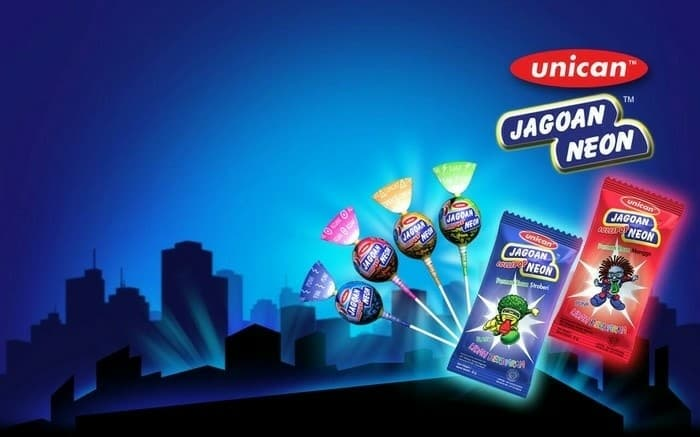jagoan_neon: (446, 211, 583, 398), (549, 177, 685, 364)
